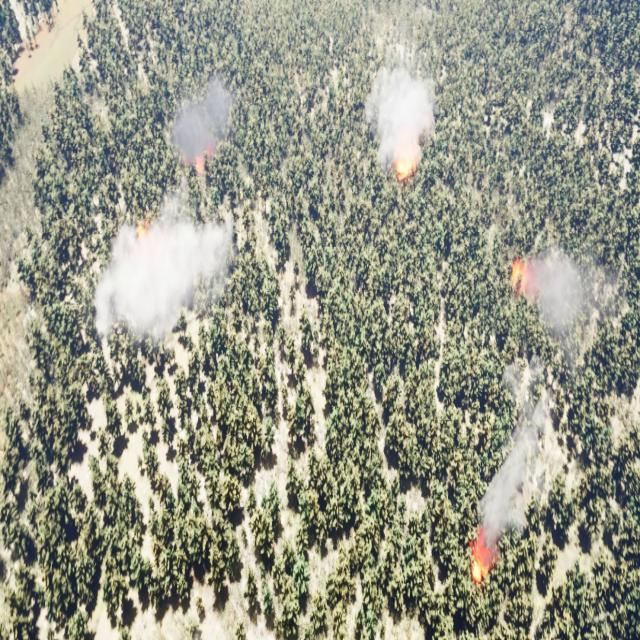fire: (507, 248, 541, 303), (466, 534, 494, 588), (392, 145, 421, 197), (190, 137, 216, 176)
smoke: (85, 76, 232, 373), (475, 361, 552, 536), (525, 242, 607, 358), (364, 64, 442, 169)
